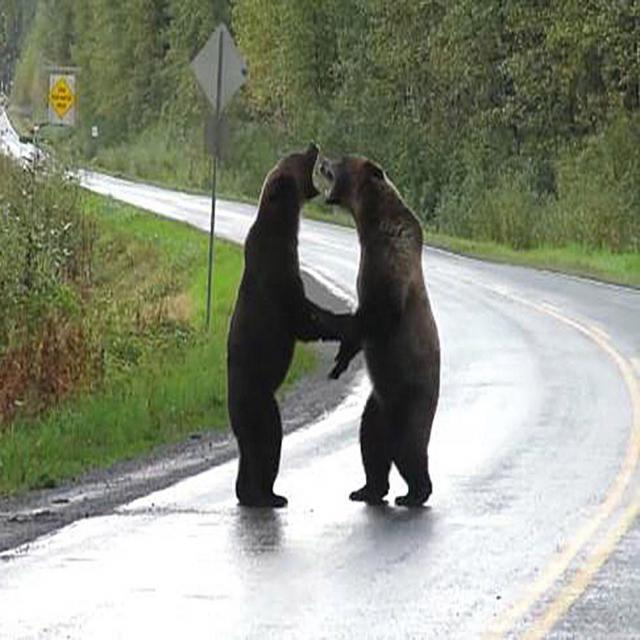Bear: (313, 156, 439, 505), (227, 145, 343, 510)
